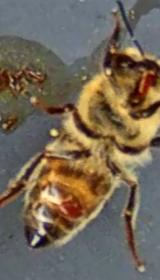varroa_mite: (43, 180, 104, 226)
